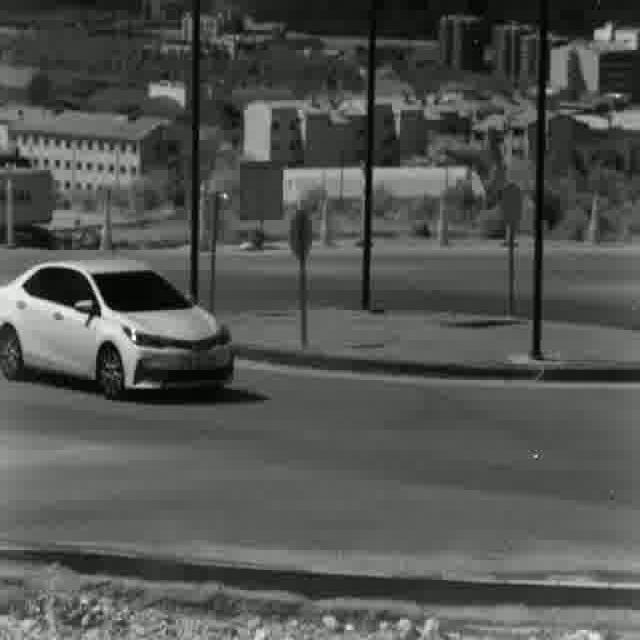Car: (0, 257, 231, 404)
